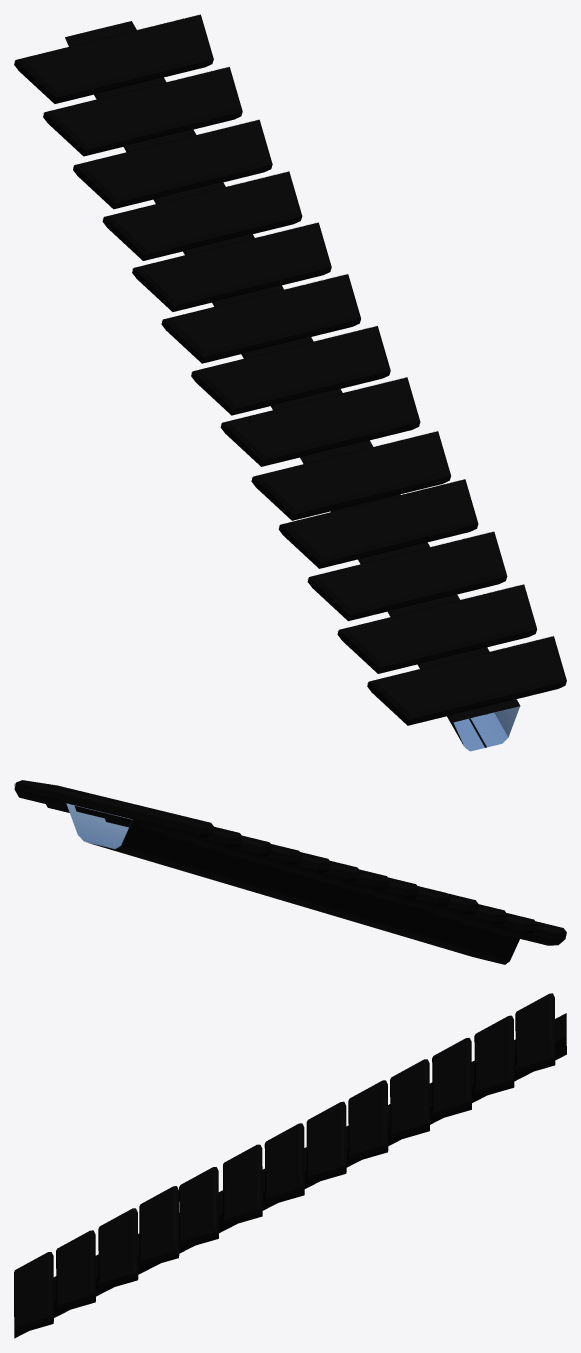
Rendered from pm-platform-stairs-03.glb.
3 renders of one model, top to bottom at view 1: azimuth 30°, elevation 25°; view 2: azimuth 150°, elevation 25°; view 3: azimuth 270°, elevation 25°, orthographic. The views are drawn at different scales.
Visible parts, largest first — view 1: Platform_Stairs_03; view 2: Platform_Stairs_03; view 3: Platform_Stairs_03.
Boxes of the visible parts, x1,y1,x2,y2 form: Platform_Stairs_03: (14, 14, 566, 751); Platform_Stairs_03: (14, 780, 566, 964); Platform_Stairs_03: (14, 993, 566, 1338).
Size of the model in its own units: 2.35 by 5.21 by 8.45.
3 materials, 2 textured.
